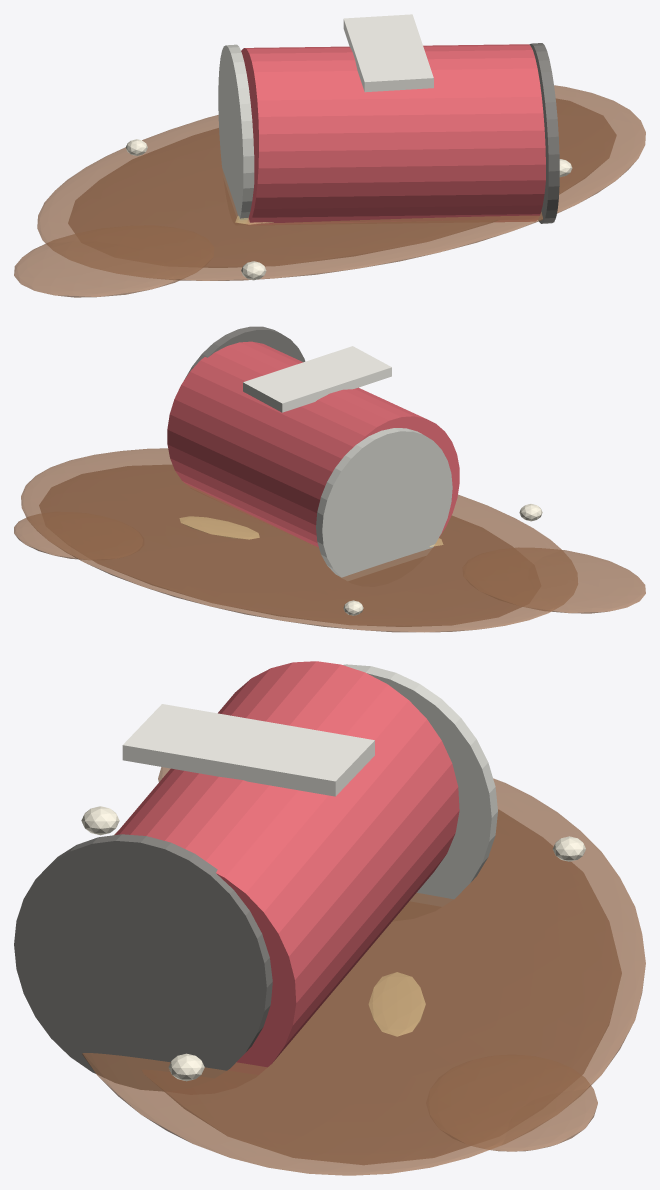
Rendered from sugar_source_leaking_soda_v1.glb.
3 views of the same model, one above another, from view 1: azimuth 30°, elevation 25°; view 2: azimuth 150°, elevation 25°; view 3: azimuth 270°, elevation 25° (orthographic). The views are drawn at different scales.
Parts seen in each view (by area): view 1: fallen_leaking_soda_can_body, main_cola_syrup_puddle, dark_puddle_underlayer, left_cola_drip, simple_can_label_patch, visible_can_end_silver, leaking_can_open_end; view 2: main_cola_syrup_puddle, dark_puddle_underlayer, fallen_leaking_soda_can_body, visible_can_end_silver, left_cola_drip, simple_can_label_patch, right_cola_drip, leaking_can_open_end, cola_highlight_2; view 3: main_cola_syrup_puddle, dark_puddle_underlayer, fallen_leaking_soda_can_body, leaking_can_open_end, simple_can_label_patch, right_cola_drip, visible_can_end_silver, cola_highlight_2, sugar_bubble_crumb_0, sugar_bubble_crumb_2.
Boxes of the visible parts, x1,y1,x2,y2 form: fallen_leaking_soda_can_body: [241, 44, 545, 224]; main_cola_syrup_puddle: [37, 85, 645, 280]; dark_puddle_underlayer: [68, 99, 616, 267]; left_cola_drip: [14, 226, 213, 297]; simple_can_label_patch: [343, 14, 433, 92]; visible_can_end_silver: [218, 44, 254, 220]; leaking_can_open_end: [529, 43, 559, 223]; main_cola_syrup_puddle: [21, 448, 577, 632]; dark_puddle_underlayer: [39, 465, 520, 626]; fallen_leaking_soda_can_body: [167, 341, 459, 547]; visible_can_end_silver: [316, 428, 452, 580]; left_cola_drip: [463, 548, 645, 613]; simple_can_label_patch: [243, 346, 391, 412]; right_cola_drip: [14, 512, 142, 559]; leaking_can_open_end: [184, 326, 305, 379]; cola_highlight_2: [179, 516, 259, 539]; main_cola_syrup_puddle: [82, 778, 645, 1175]; dark_puddle_underlayer: [142, 810, 621, 1164]; fallen_leaking_soda_can_body: [115, 661, 459, 1074]; leaking_can_open_end: [14, 834, 272, 1091]; simple_can_label_patch: [122, 704, 374, 796]; right_cola_drip: [428, 1055, 597, 1151]; visible_can_end_silver: [343, 664, 497, 906]; cola_highlight_2: [368, 972, 425, 1036]; sugar_bubble_crumb_0: [81, 806, 119, 835]; sugar_bubble_crumb_2: [168, 1053, 204, 1081].
Size of the model in its own units: 2.31 by 0.6105 by 1.32.
